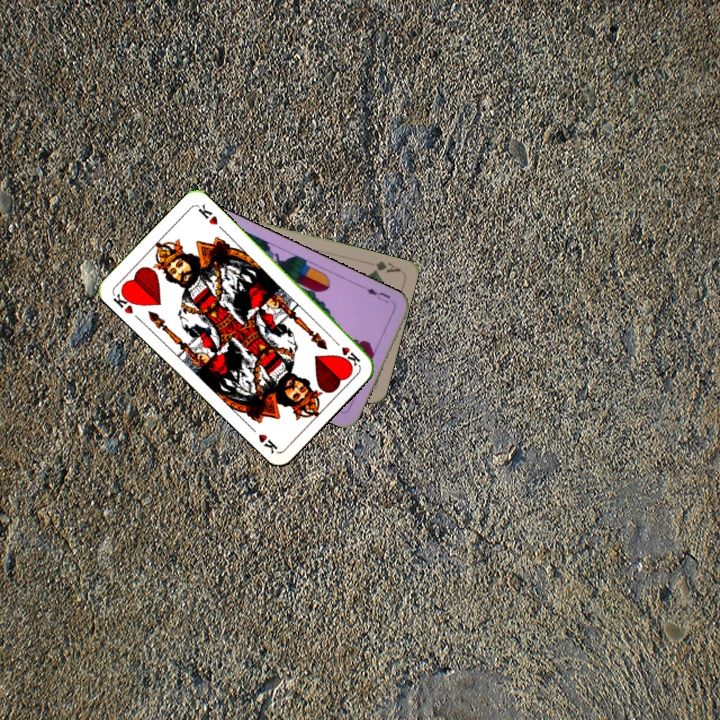EU: (359, 282, 393, 306)
GA: (369, 257, 403, 276)
HK: (329, 335, 363, 369), (109, 286, 139, 316)
